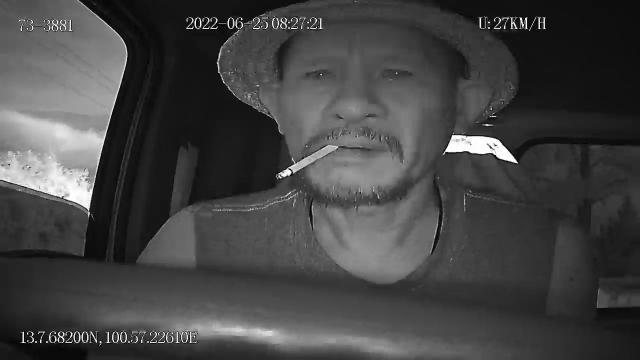SafeDriving: (294, 56, 343, 88), (372, 58, 422, 86)
Smoking: (274, 144, 340, 178)
